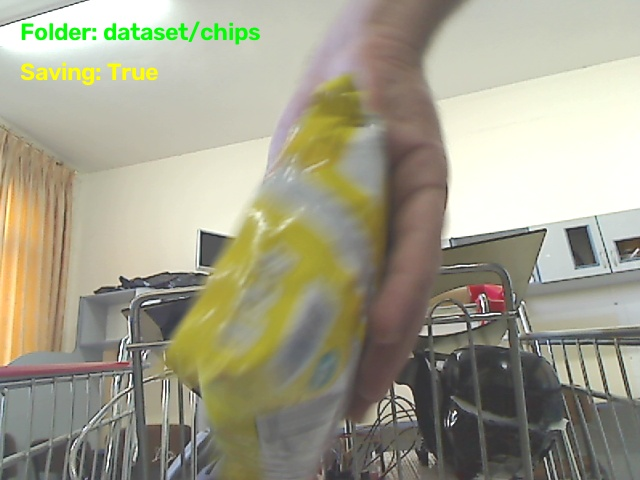chips: (167, 76, 387, 479)
